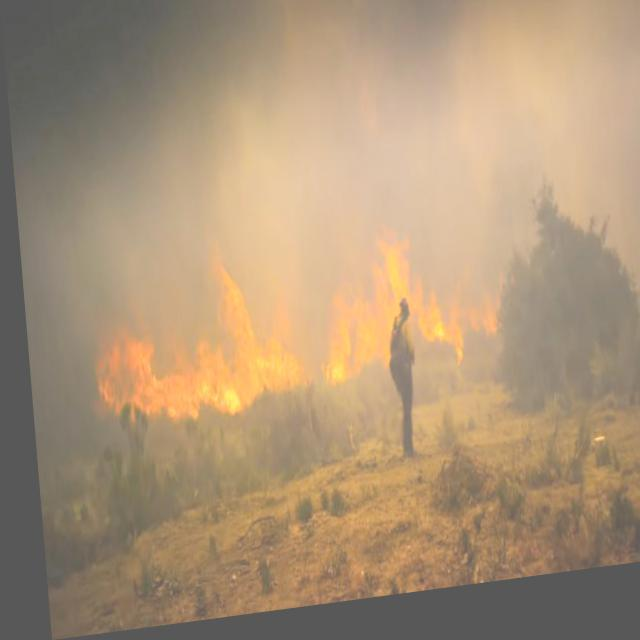Fire: (75, 245, 308, 454), (303, 210, 495, 412)
